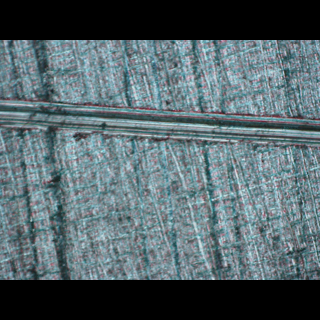d: (0, 93, 320, 151)
